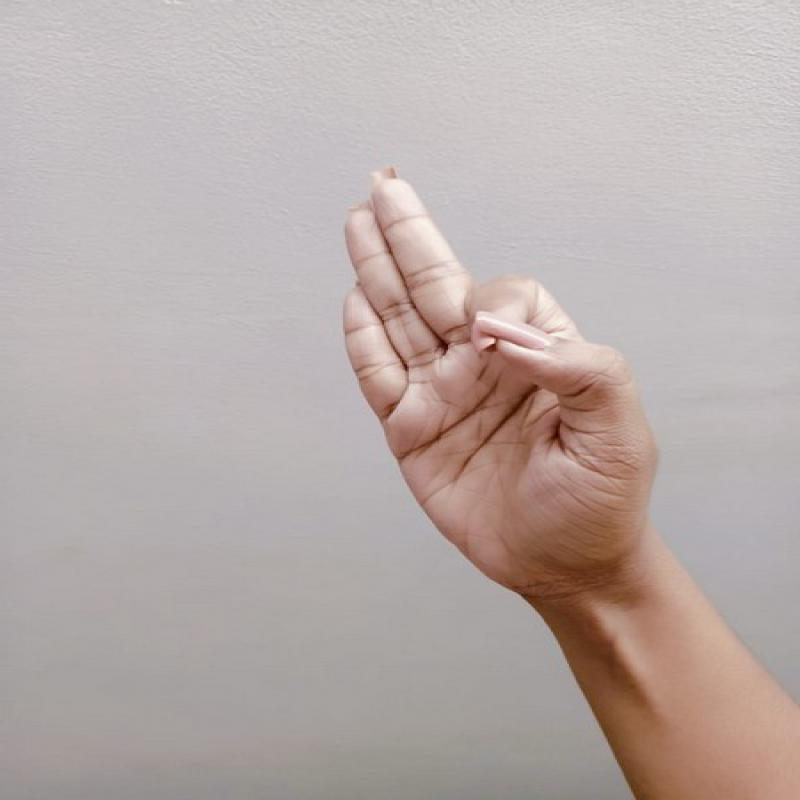Mudraakhyam: (317, 159, 671, 601)
